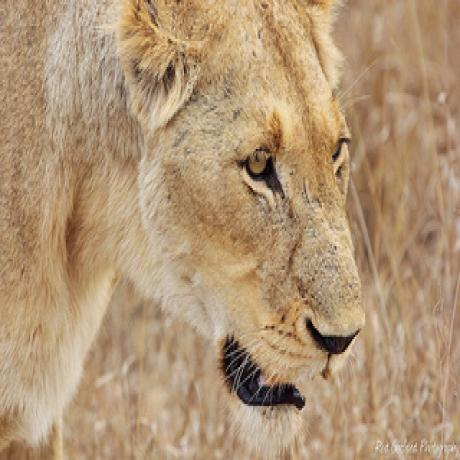Lion: (0, 0, 370, 460)
